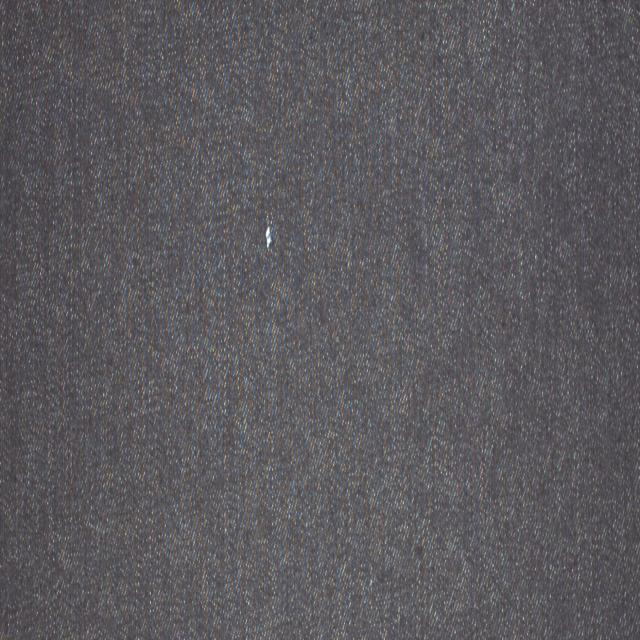Knot: (265, 226, 273, 248)
